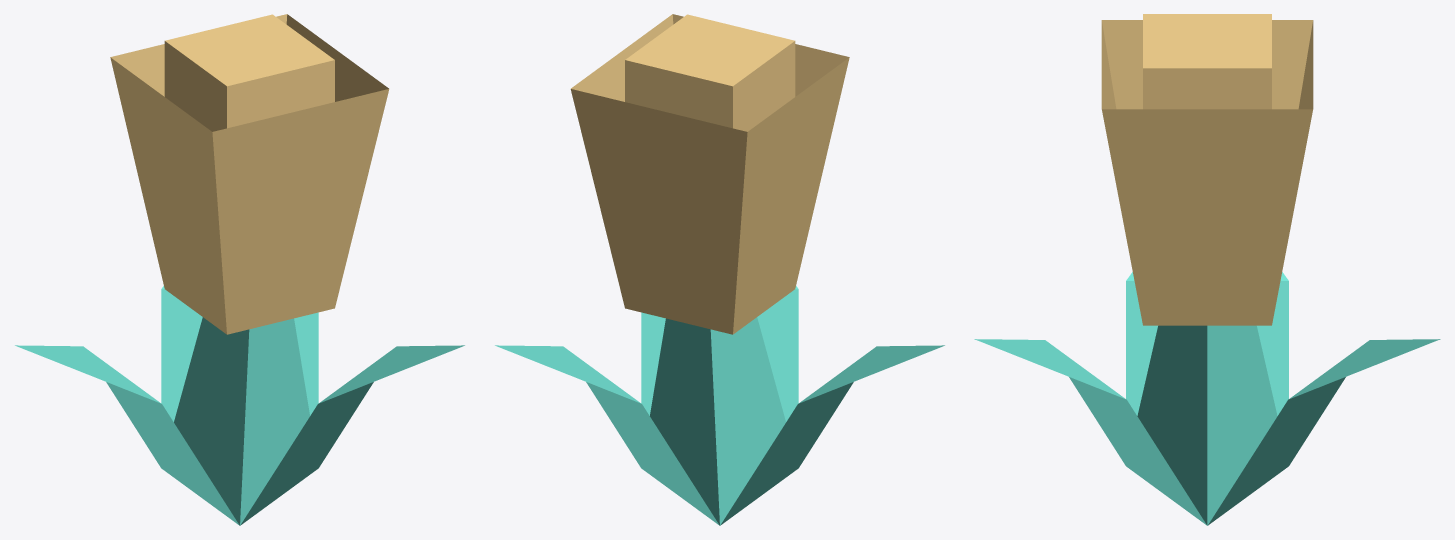
The model's file is flower_yellow_a.glb.
3 views of the same model, side by side, from view 1: azimuth 30°, elevation 25°; view 2: azimuth 150°, elevation 25°; view 3: azimuth 270°, elevation 25° (orthographic). The views are drawn at different scales.
Parts seen in each view (by area): view 1: flower_yellowA; view 2: flower_yellowA; view 3: flower_yellowA.
Part boxes in pixels (x1,y1,x2,y2): flower_yellowA: (15,14,464,525); flower_yellowA: (495,14,944,525); flower_yellowA: (974,14,1440,525).
Size of the model in its own units: 0.1591 by 0.1925 by 0.1811.
